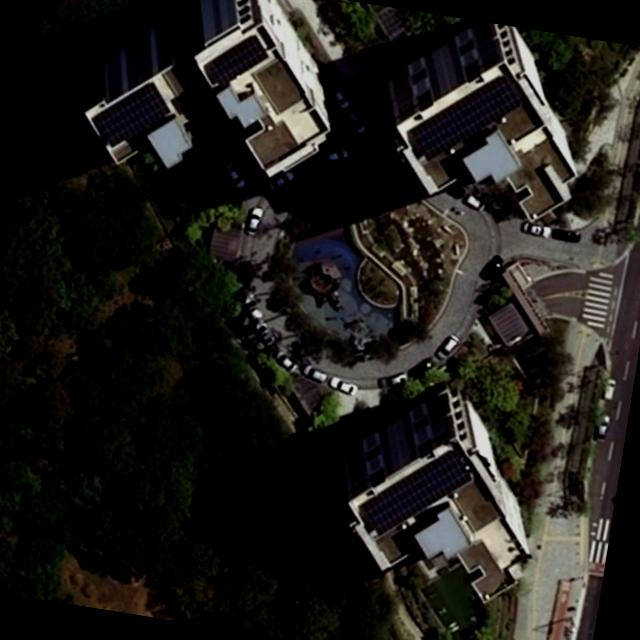solar: (405, 57, 529, 176), (353, 436, 476, 551), (86, 72, 178, 156), (202, 28, 273, 96)
